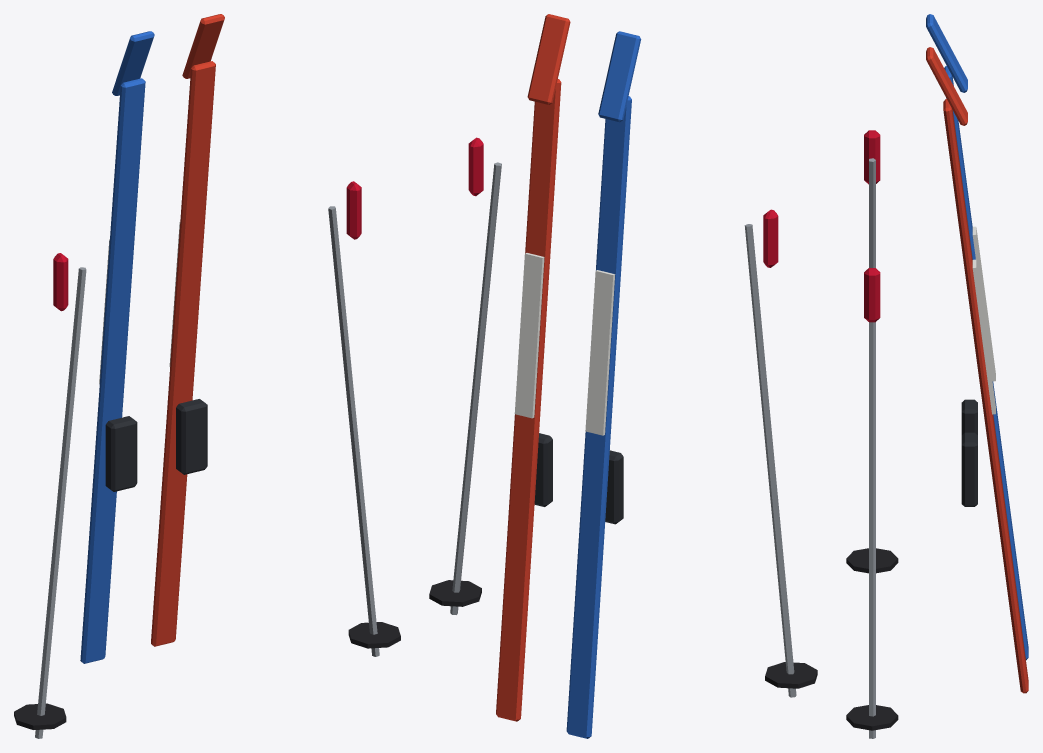
The model's file is skis.glb.
3 views of the same model, side by side, from view 1: azimuth 30°, elevation 25°; view 2: azimuth 150°, elevation 25°; view 3: azimuth 270°, elevation 25° (orthographic). The views are drawn at different scales.
Visible parts, largest first — view 1: skis; view 2: skis; view 3: skis.
Boxes of the visible parts, left/top/right/bottom form: skis: left=14, top=14, right=400, bottom=738; skis: left=429, top=14, right=817, bottom=738; skis: left=846, top=14, right=1028, bottom=738.
Bounding box in the file's own units: 1.3 × 2.16 × 0.5612.
